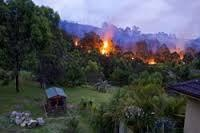fire: (95, 30, 115, 54)
